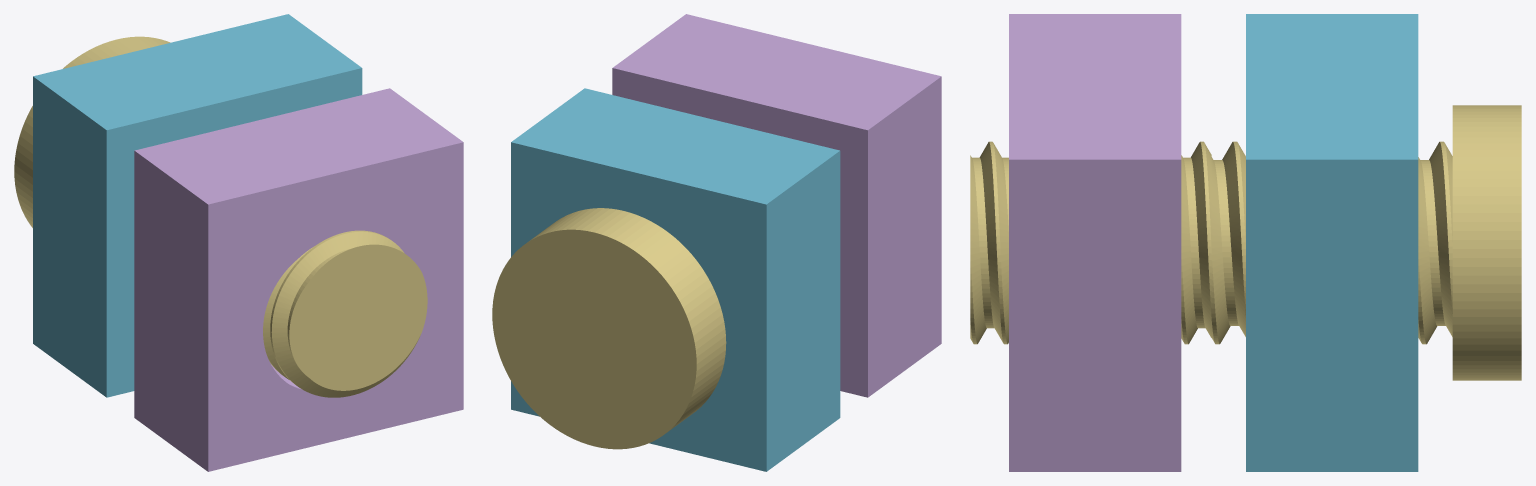
The model's file is differential_screw_demo.glb.
3 renders of one model, left to right at view 1: azimuth 30°, elevation 25°; view 2: azimuth 150°, elevation 25°; view 3: azimuth 270°, elevation 25°, orthographic. The views are drawn at different scales.
Visible parts, largest first — view 1: moving_nut, frame_nut, twin_pitch_shaft; view 2: frame_nut, moving_nut, twin_pitch_shaft; view 3: frame_nut, moving_nut, twin_pitch_shaft.
Boxes of the visible parts, x1=… form: moving_nut: x1=134, y1=88, x2=463, y2=471; frame_nut: x1=33, y1=14, x2=362, y2=397; twin_pitch_shaft: x1=14, y1=36, x2=427, y2=397; frame_nut: x1=511, y1=88, x2=840, y2=471; moving_nut: x1=612, y1=14, x2=941, y2=397; twin_pitch_shaft: x1=492, y1=208, x2=726, y2=449; frame_nut: x1=1246, y1=14, x2=1418, y2=471; moving_nut: x1=1009, y1=14, x2=1181, y2=471; twin_pitch_shaft: x1=970, y1=105, x2=1521, y2=380.
Size of the model in its own units: 20 by 20 by 32.
